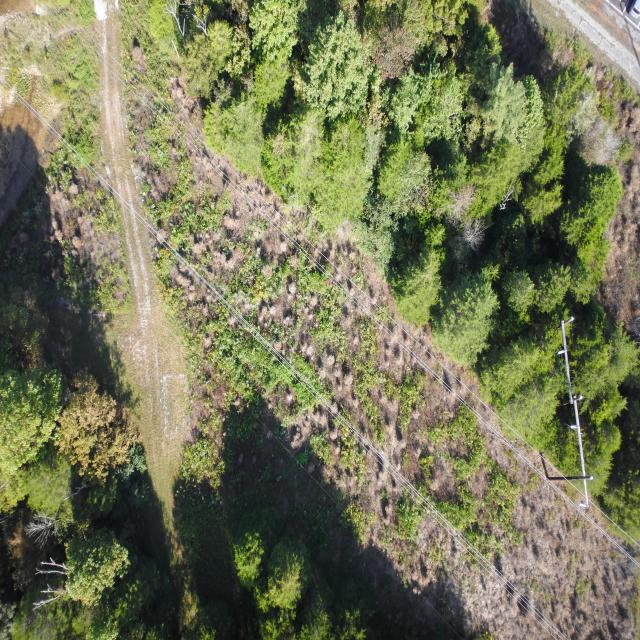Area of Interest: (202, 11, 633, 484), (5, 383, 133, 634), (253, 535, 351, 632)
